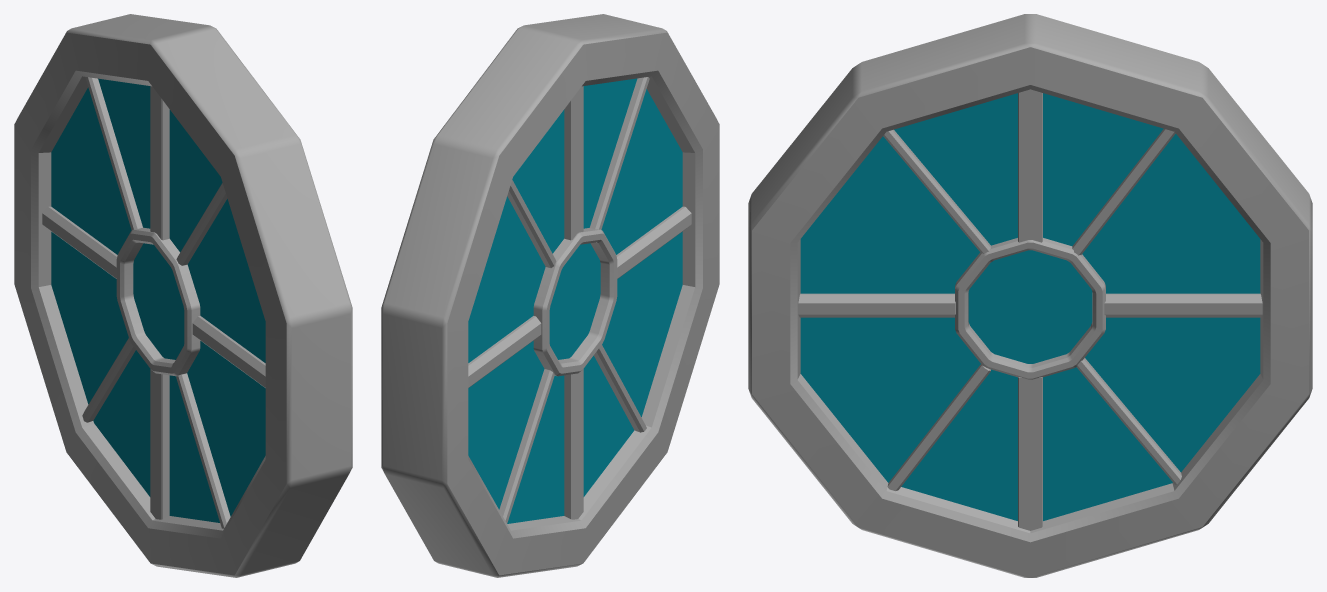
Rendered from Asset_Window.fbx.
The picture shows the model from 3 angles, left to right: view 1: azimuth 30°, elevation 25°; view 2: azimuth 150°, elevation 25°; view 3: azimuth 270°, elevation 25°; orthographic projection. The views are drawn at different scales.
Visible parts, largest first — view 1: pCylinder42; view 2: pCylinder42; view 3: pCylinder42.
Part boxes in pixels (x1=…): pCylinder42: x1=14, y1=14, x2=352, y2=577; pCylinder42: x1=381, y1=14, x2=719, y2=577; pCylinder42: x1=748, y1=14, x2=1312, y2=577.
Bounding box in the file's own units: 0.8971 × 6.35 × 6.08.
